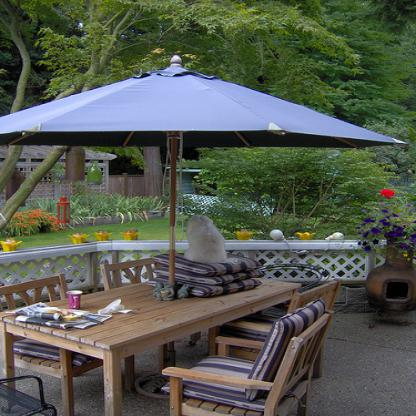cat: (183, 214, 229, 264)
chair: (158, 294, 335, 415), (0, 270, 136, 415), (202, 275, 342, 376), (98, 256, 164, 289)
diningtable: (0, 274, 302, 415)
pottedplant: (357, 187, 415, 314)
